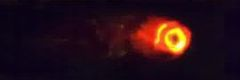keyhole: (168, 32, 181, 47)
